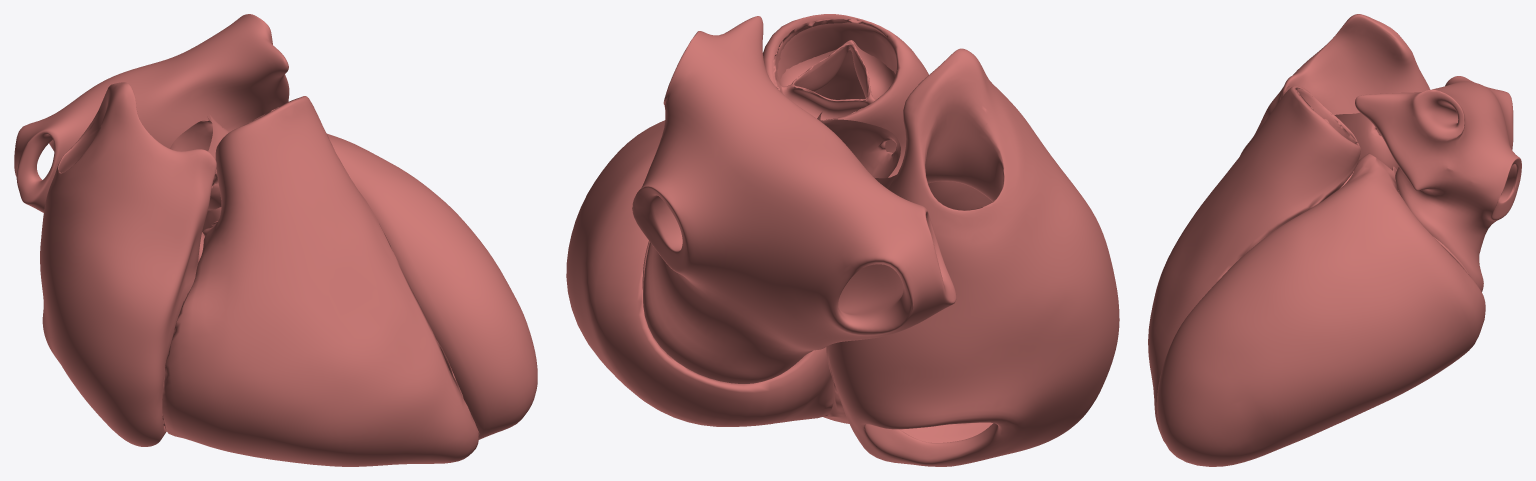
The model's file is vh_m_heart-80.glb.
The picture shows the model from 3 angles, left to right: view 1: azimuth 30°, elevation 25°; view 2: azimuth 150°, elevation 25°; view 3: azimuth 270°, elevation 25°; orthographic projection. The views are drawn at different scales.
Parts seen in each view (by area): view 1: VH_M_heart_right_ventricle, VH_M_right_cardiac_atrium, VH_M_heart_left_ventricle, VH_M_left_cardiac_atrium, VH_M_aortic_valve; view 2: VH_M_left_cardiac_atrium, VH_M_right_cardiac_atrium, VH_M_heart_left_ventricle, VH_M_heart_right_ventricle, VH_M_pulmonary_valve, VH_M_aortic_valve; view 3: VH_M_heart_left_ventricle, VH_M_heart_right_ventricle, VH_M_left_cardiac_atrium, VH_M_right_cardiac_atrium, VH_M_aortic_valve.
Boxes of the visible parts, x1,y1,x2,y2 form: VH_M_heart_right_ventricle: (162, 96, 478, 466); VH_M_right_cardiac_atrium: (40, 82, 216, 446); VH_M_heart_left_ventricle: (202, 133, 537, 439); VH_M_left_cardiac_atrium: (14, 14, 289, 212); VH_M_aortic_valve: (170, 114, 229, 210); VH_M_left_cardiac_atrium: (632, 16, 956, 383); VH_M_right_cardiac_atrium: (826, 48, 1119, 466); VH_M_heart_left_ventricle: (566, 120, 833, 426); VH_M_heart_right_ventricle: (763, 14, 928, 423); VH_M_pulmonary_valve: (773, 19, 895, 119); VH_M_aortic_valve: (817, 112, 900, 188); VH_M_heart_left_ventricle: (1156, 153, 1485, 466); VH_M_heart_right_ventricle: (1148, 86, 1360, 442); VH_M_left_cardiac_atrium: (1355, 76, 1521, 291); VH_M_right_cardiac_atrium: (1240, 14, 1429, 155); VH_M_aortic_valve: (1334, 112, 1398, 169).
Bounding box in the file's own units: 0.1244 × 0.1054 × 0.1052.
